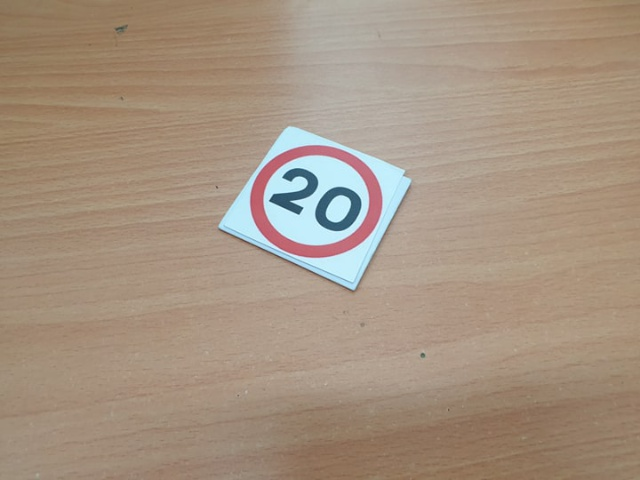Limit 20: (250, 146, 383, 257)
